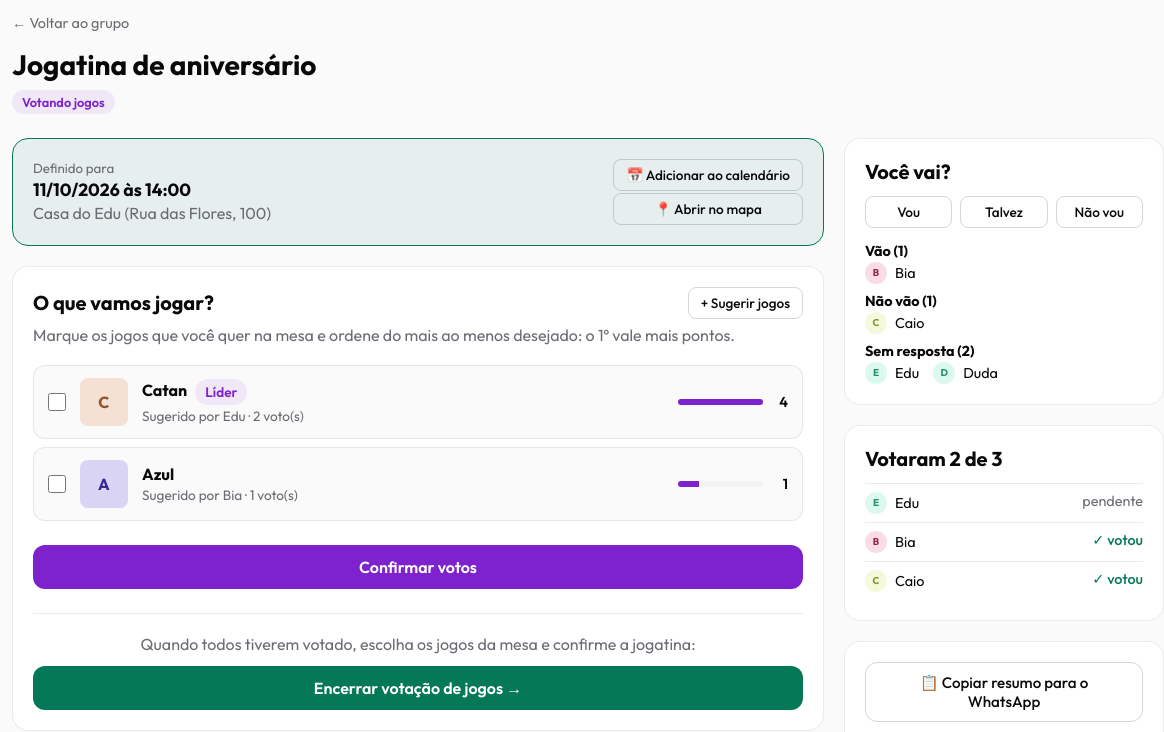
Test case: Evento — você vai? › responder grava na API e atualiza a lista
expect the text "Vão (1)" is shown: met, box [865,242,908,260]
Click the button "Vou": (909, 212) [865,196,952,228]
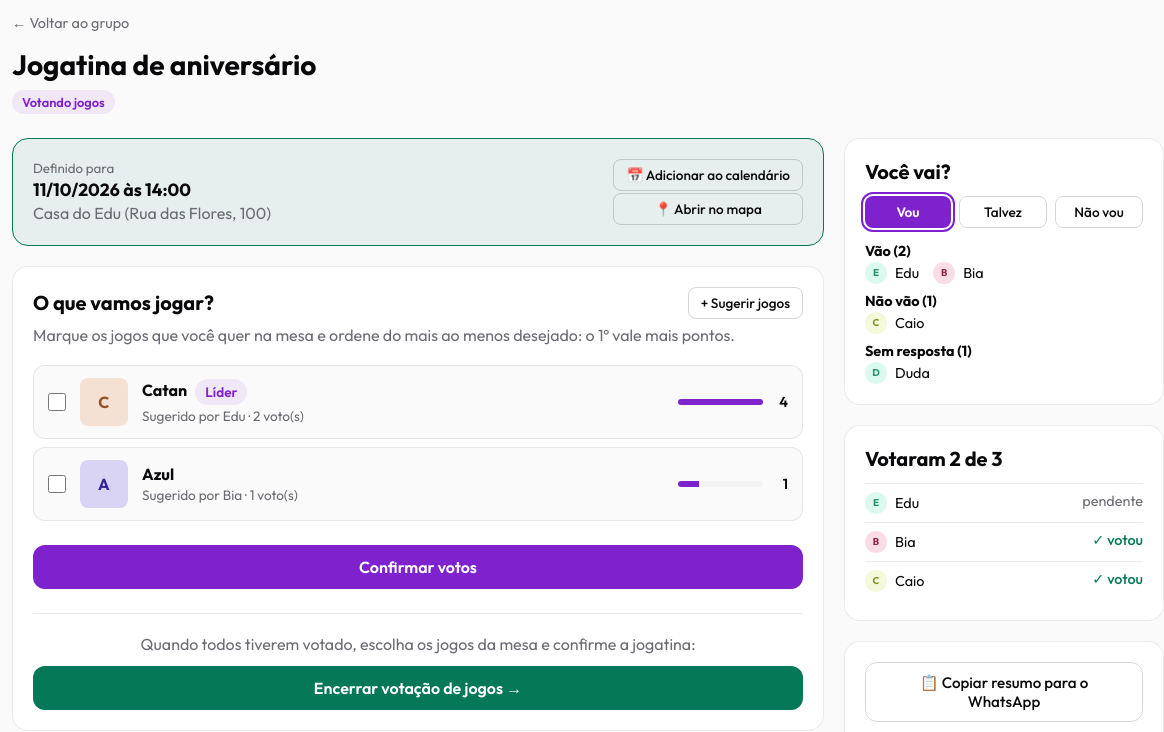
expect the text "Vão (2)" is shown: met, box [865,242,911,260]
